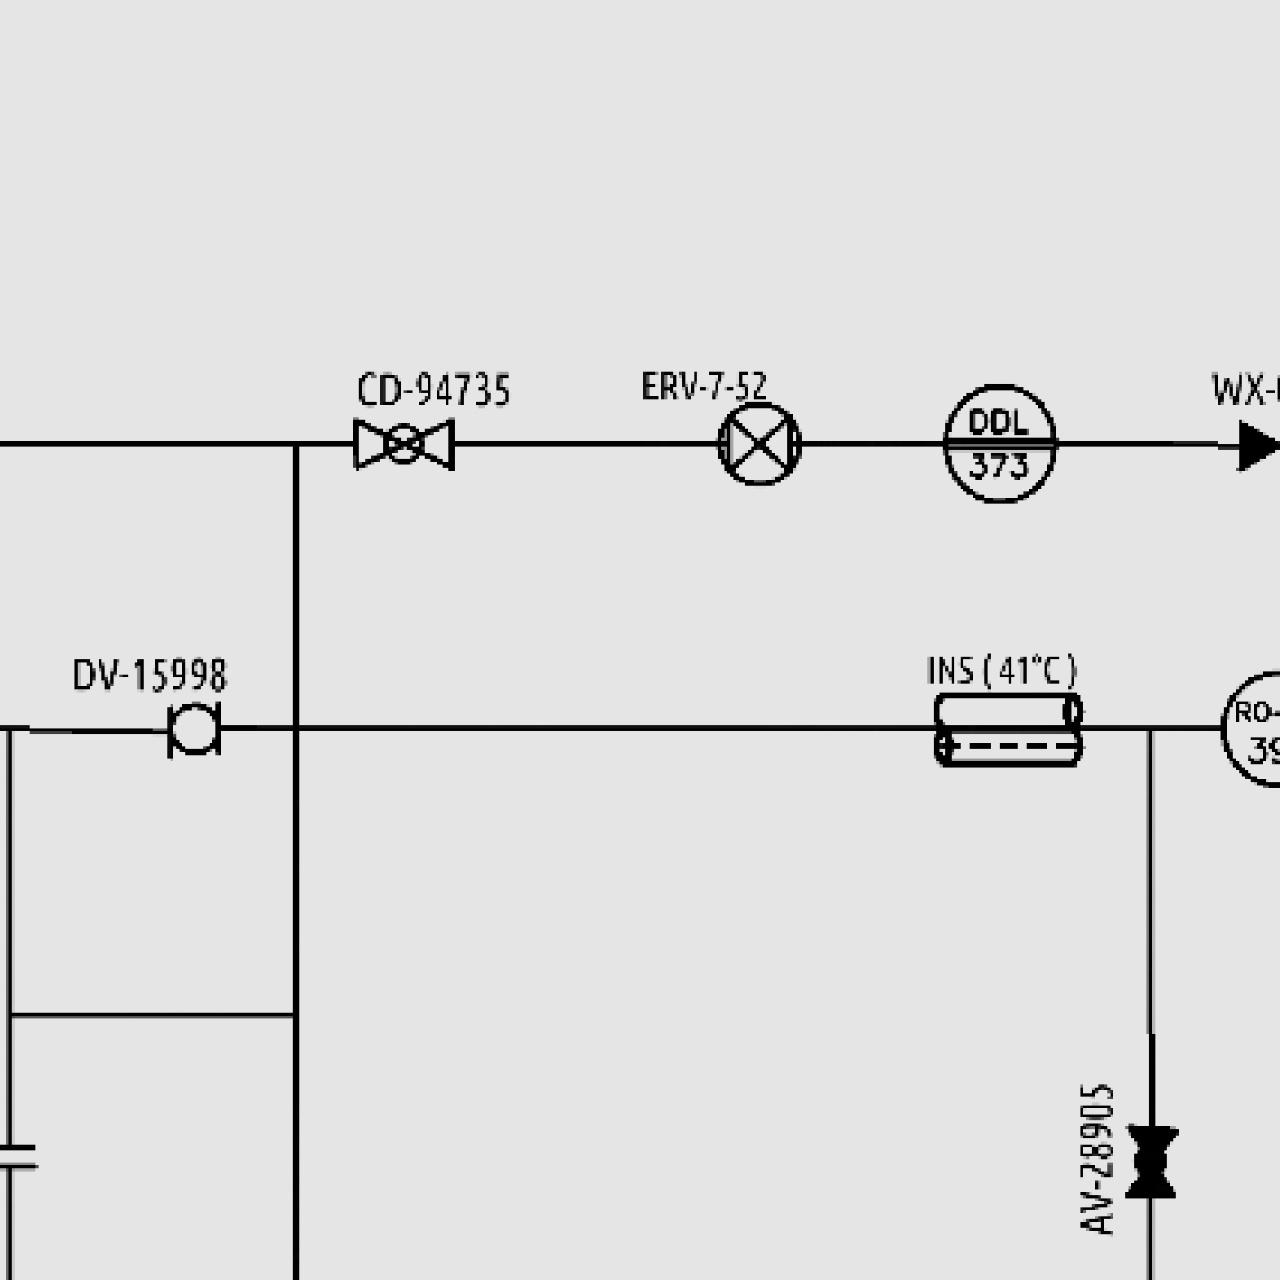Control-Panel: (935, 377, 1064, 508)
